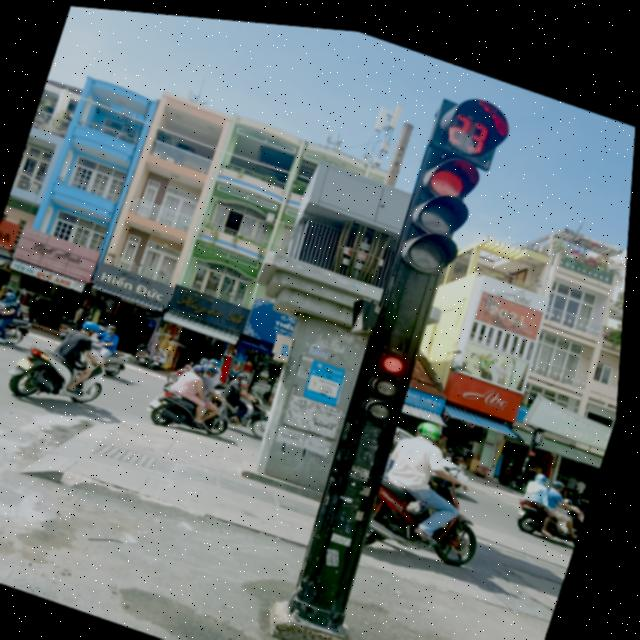Red: (388, 132, 491, 280), (350, 323, 426, 425)
